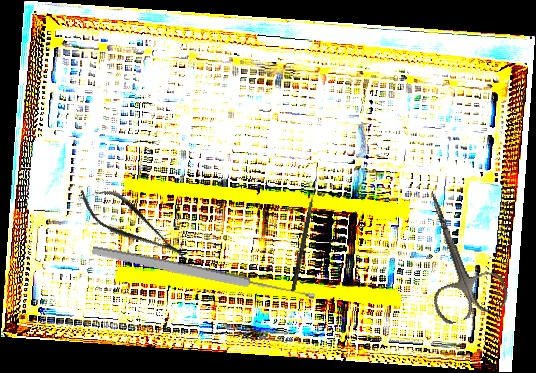Hook Surgical: (291, 179, 318, 292)
Iris Scissors: (398, 178, 512, 328)
Micro Scissor: (70, 174, 195, 275)
Surgical Spoon: (91, 243, 316, 304)
